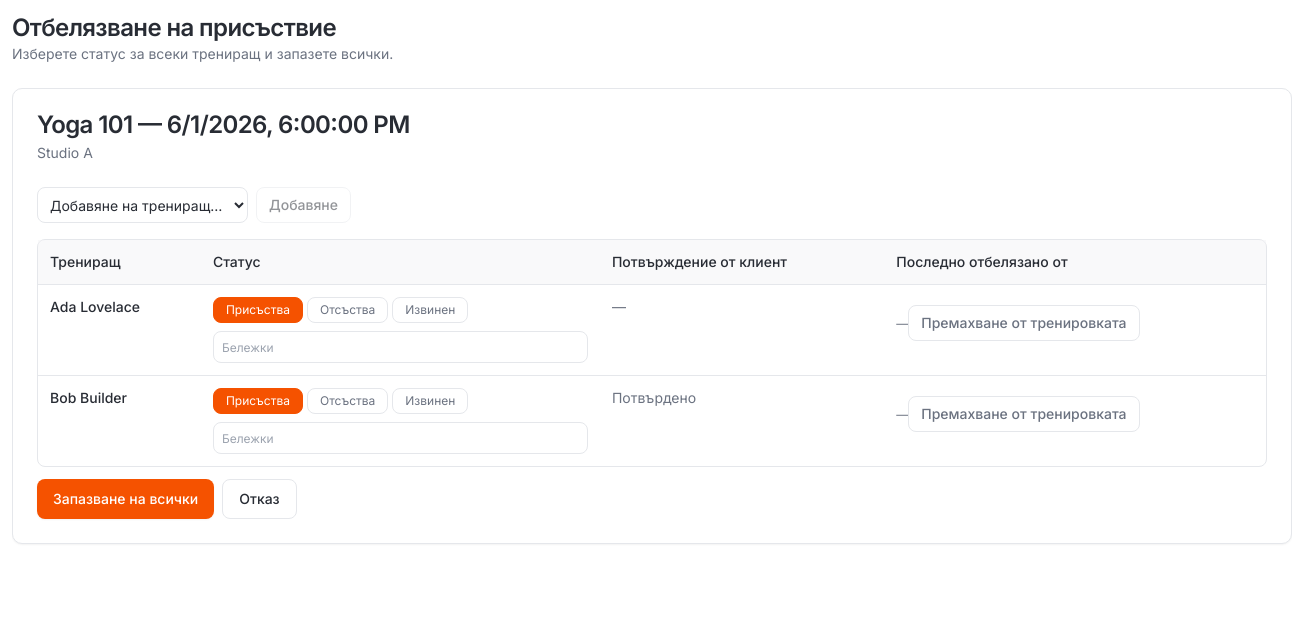
Test: AttendancePage — toggle group + Save All › adds a trainee not yet on the session via POST and shows the new row
The width and height of the screenshot is (1292, 636).
Expected: the text "Ada Lovelace" is shown, [38,284,201,376]
Step 1. Select "Cleo Newton" in the dropdown named "Добавяне на трениращ…" → {"x": 142, "y": 205}, box [37,187,248,223]
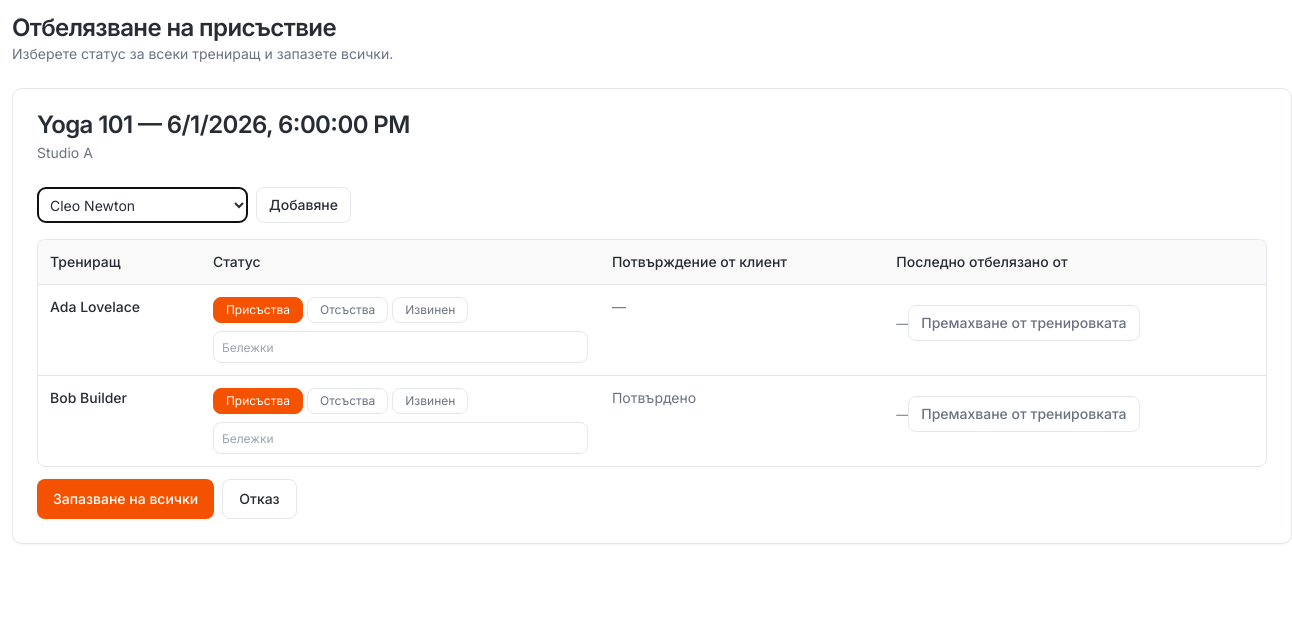
Step 2. Click the button "Добавяне" → {"x": 303, "y": 205}, box [256,187,351,223]
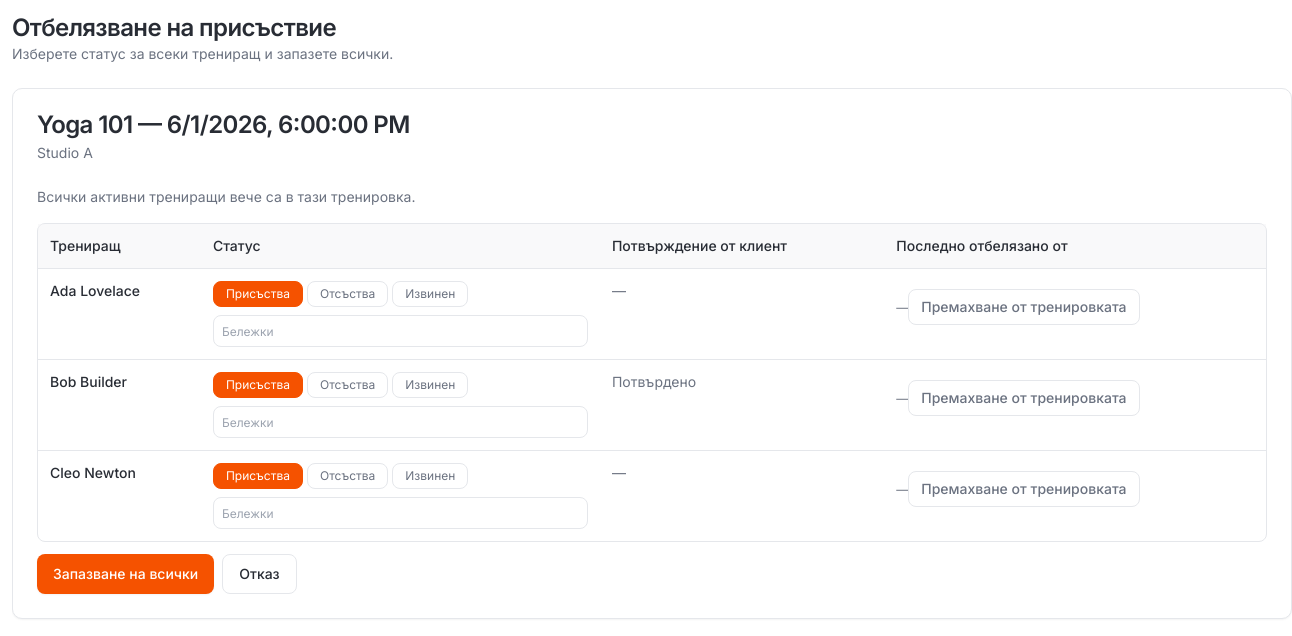
Expected: the text "Cleo Newton" is shown, [38,450,201,541]
